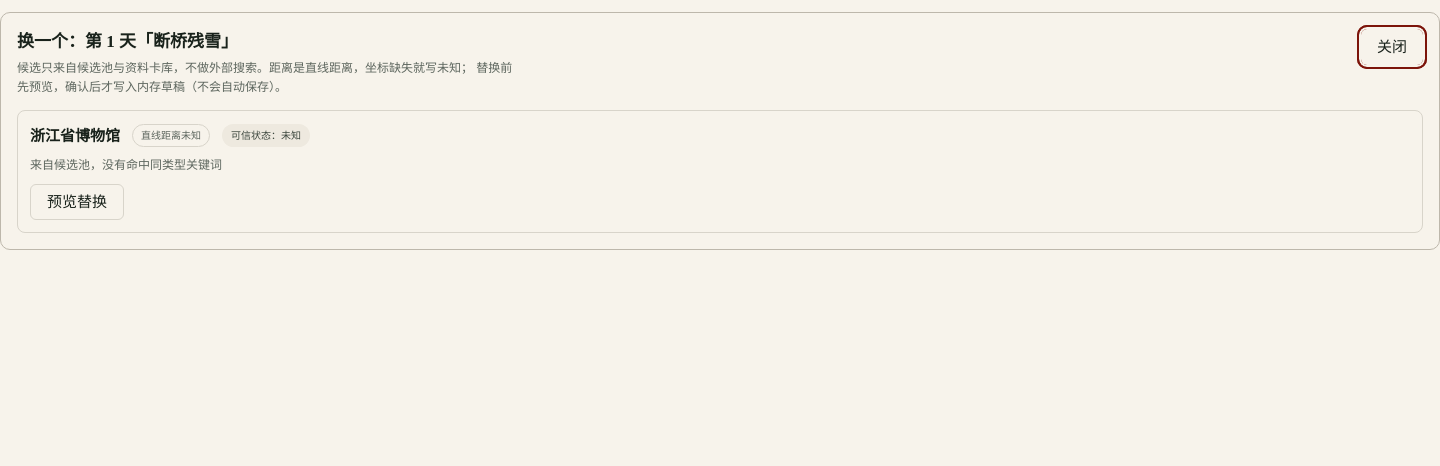
Test case: StopSwapPanel › 先预览再确认：预览显示替换后顺序与受影响路段，确认后才写入草稿
Later steps or results of the test are not shown.
Click the button "预览替换".
click(77, 202)  # box [30,184,124,220]
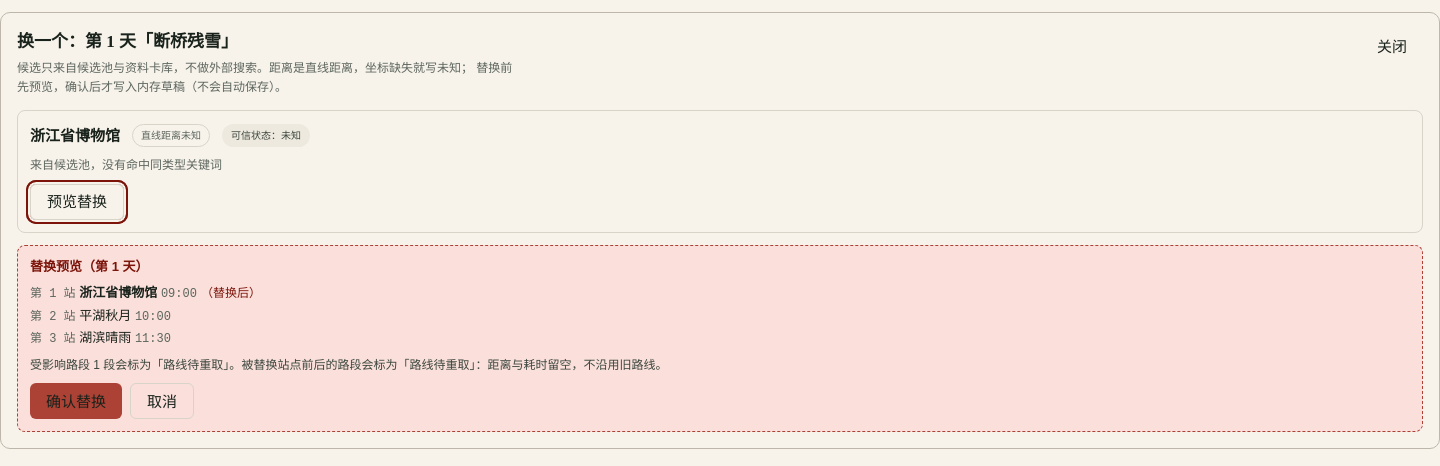
Expected: the element with test id "stop-swap-preview" shows "浙江省博物馆", [79,285,157,300]
Expected: the element with test id "stop-swap-preview" shows "替换后", [201,286,261,300]
Expected: the element with test id "stop-swap-preview" shows "路线待重取", [100,358,241,372]
